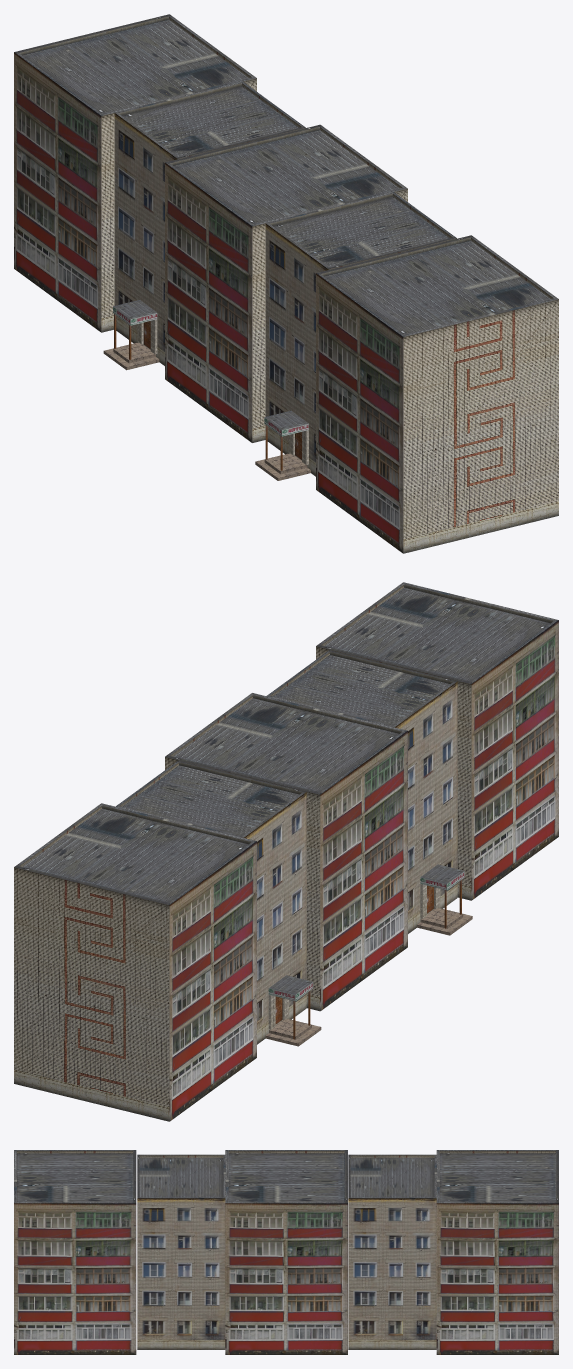
Rendered from r402_ishim_dom8.FBX.
The picture shows the model from 3 angles, top to bottom: view 1: azimuth 30°, elevation 25°; view 2: azimuth 150°, elevation 25°; view 3: azimuth 270°, elevation 25°; orthographic projection. The views are drawn at different scales.
Visible parts, largest first — view 1: 5, 3, 1, 4, 2, 6, 7; view 2: 1, 5, 3, 4, 2, 6, 7; view 3: 3, 5, 1, 2, 4.
Part boxes in pixels (x1,y1,x2,y2): 5: (316,235,558,553); 3: (165,124,407,442); 1: (14,14,256,332); 4: (265,192,456,476); 2: (114,81,305,365); 6: (103,300,159,370); 7: (255,411,310,480); 1: (14,803,256,1121); 5: (316,582,558,900); 3: (165,693,407,1011); 4: (266,650,457,933); 2: (116,760,306,1044); 6: (265,975,321,1046); 7: (417,864,472,935); 3: (225,1150,347,1354); 5: (14,1150,136,1354); 1: (436,1150,558,1354); 2: (348,1154,436,1349); 4: (137,1154,225,1349).
Bounding box in the file's own units: 12.69 × 48.86 × 15.
